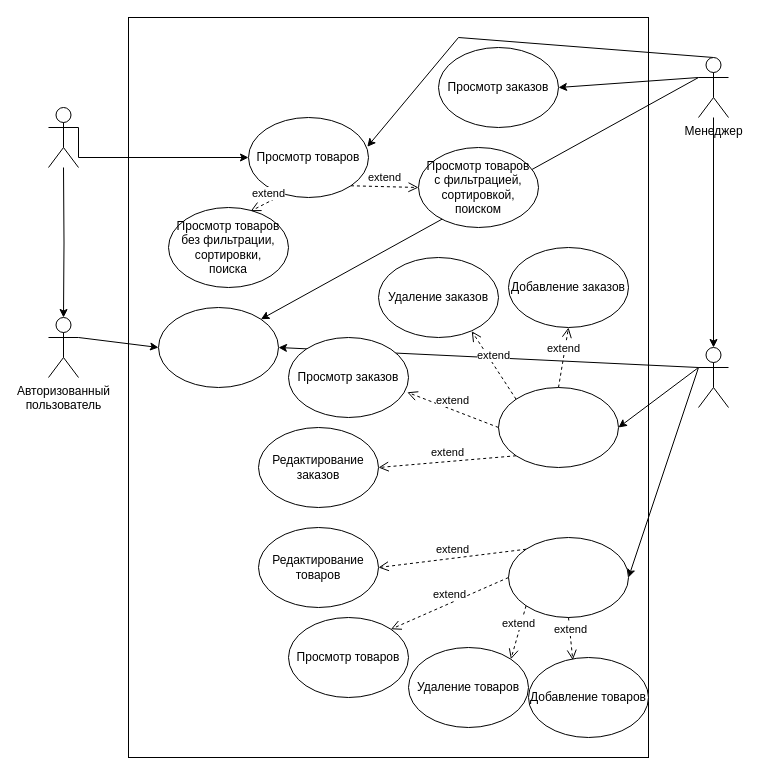
This 774x775 diagram has some shape labels left out. Here are the shapes that lost their labels. From the top down, the box of each, then its label:
(48, 106, 78, 168): Гость
(158, 306, 278, 388): Авторизация
(698, 346, 728, 408): Администратор
(498, 386, 618, 468): Взаимодействие с заказами
(508, 536, 628, 618): Взаимодействие с товарами
